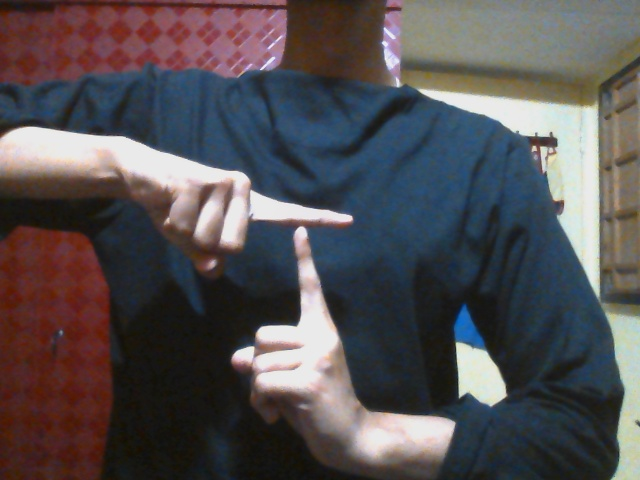T: (161, 164, 363, 435)
